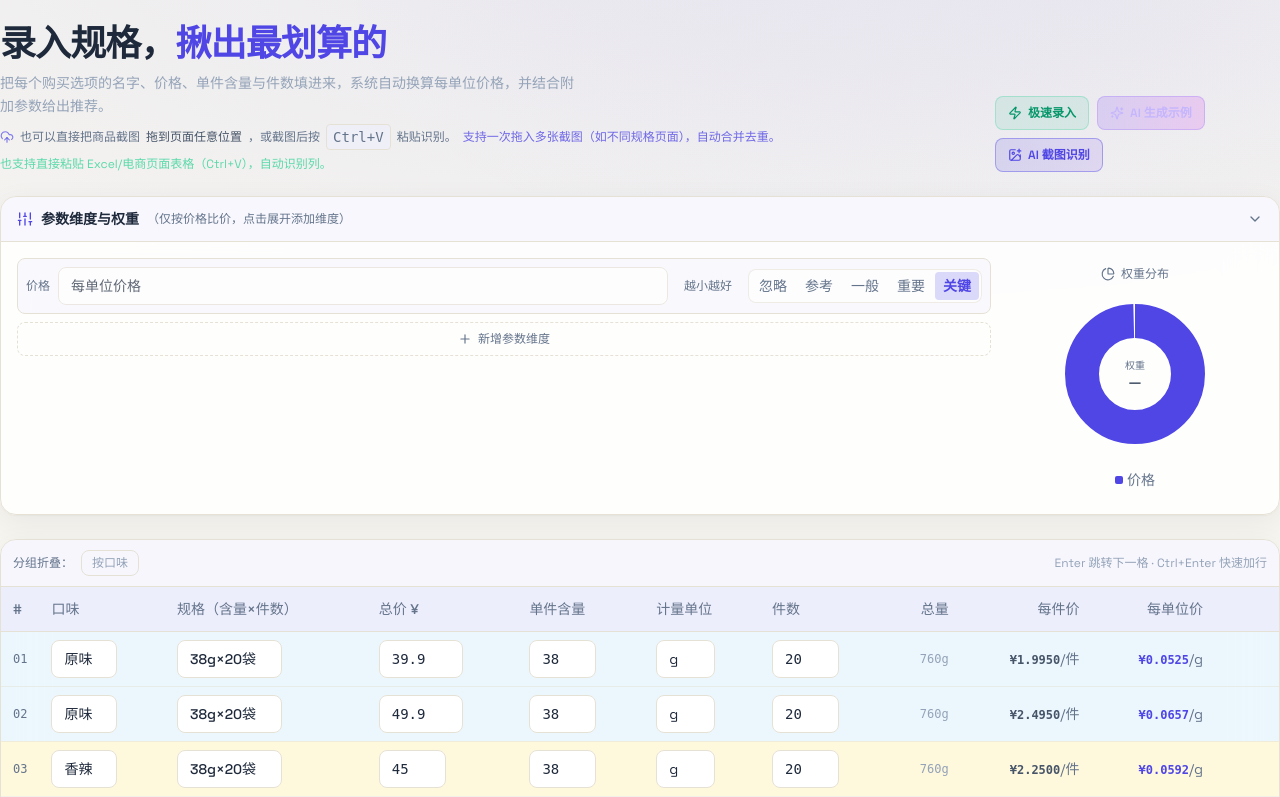
Test: Workbench 分组折叠 › 再次点击已激活的分组按钮等价于取消分组
Step 1. Click the button "按口味" → (110, 562), box [81,550,139,576]
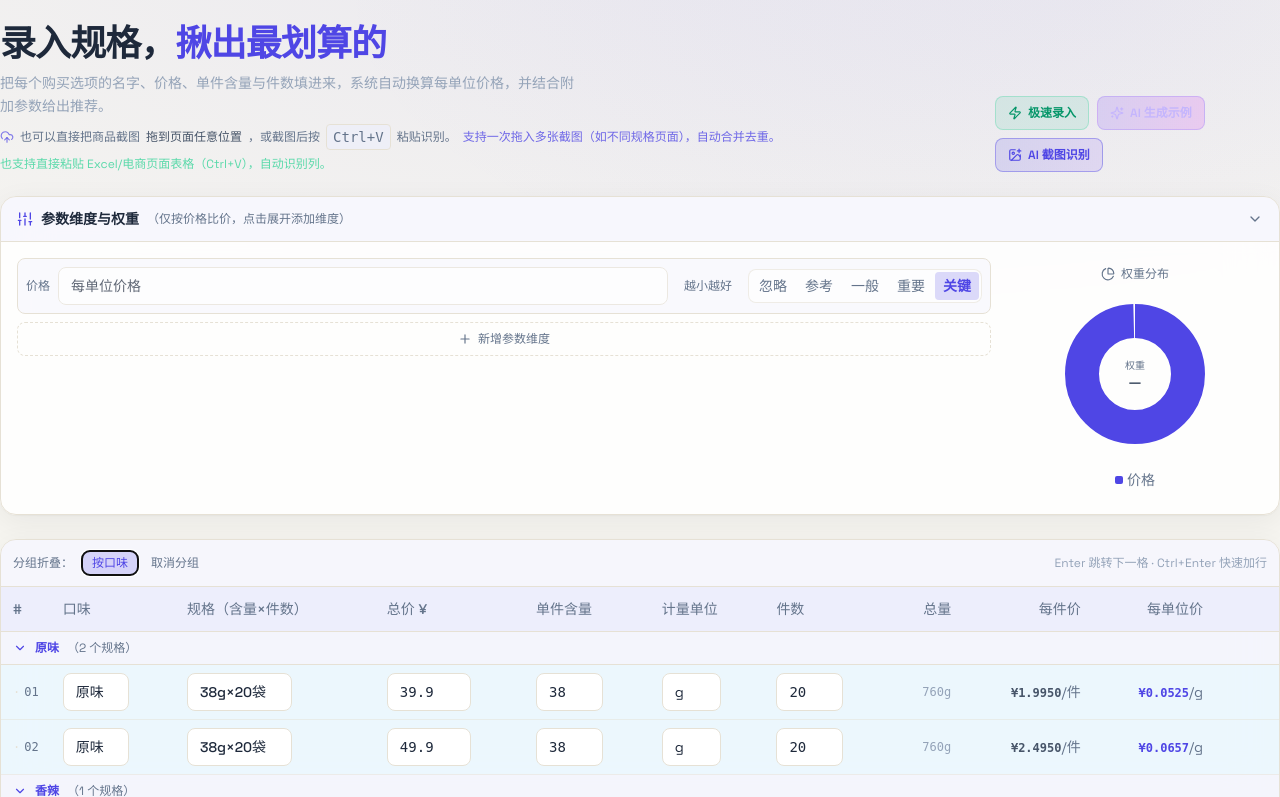
Check: the text "（2 个规格）" is shown, box [67,640,137,656]
Step 2. Click the button "按口味" → (110, 562), box [81,550,139,576]
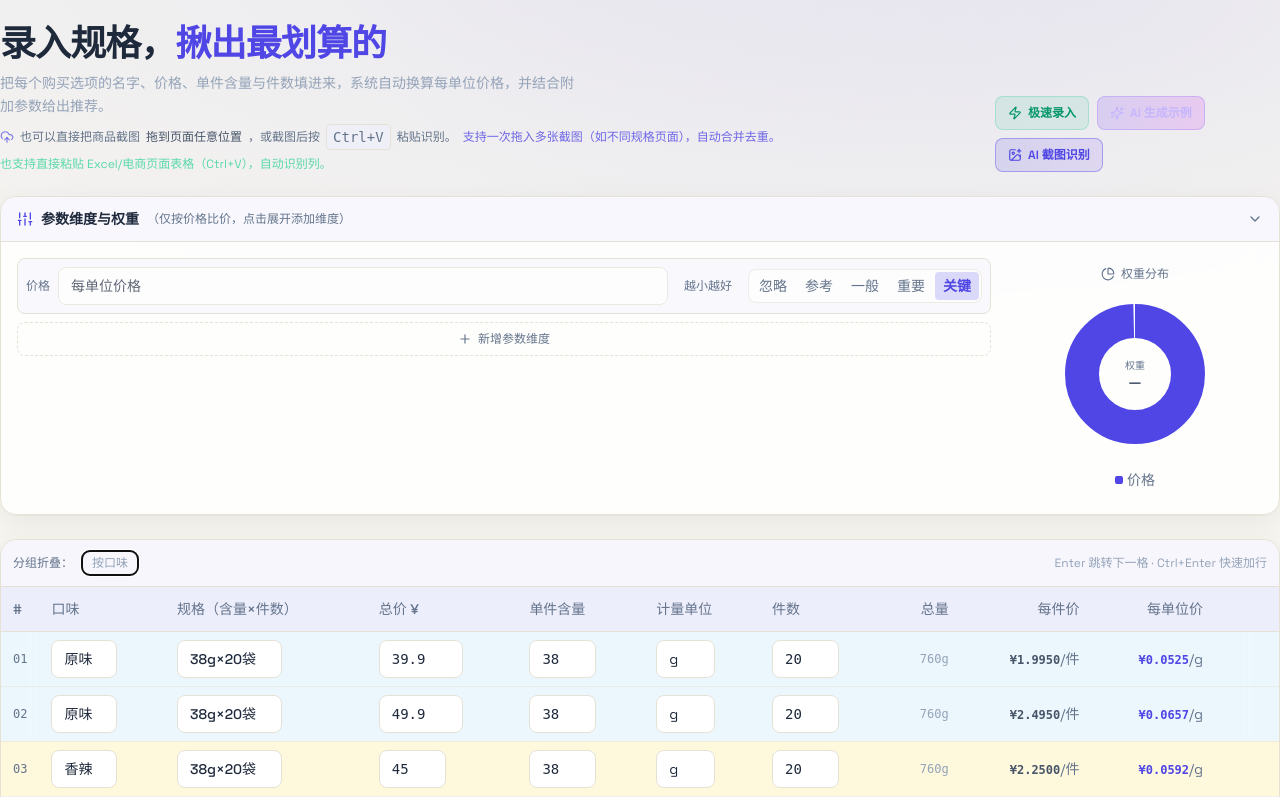
Check: the text "（2 个规格）" is gone
